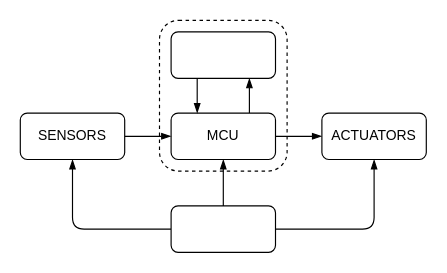
This 447x273 diagram has some shape labels left out. Each missing label, with the box of its shape:
COMMS: (170, 31, 276, 78)
PWR MGMT: (170, 205, 276, 252)
